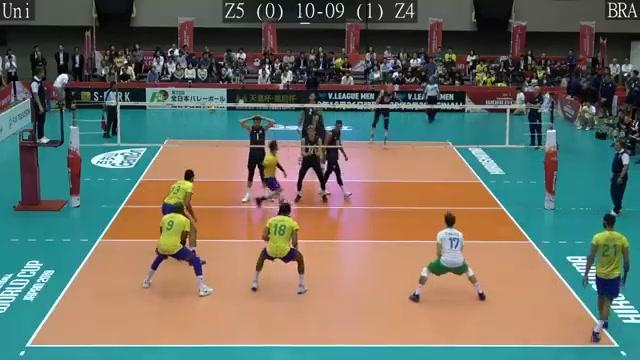ball: (331, 52, 345, 70)
